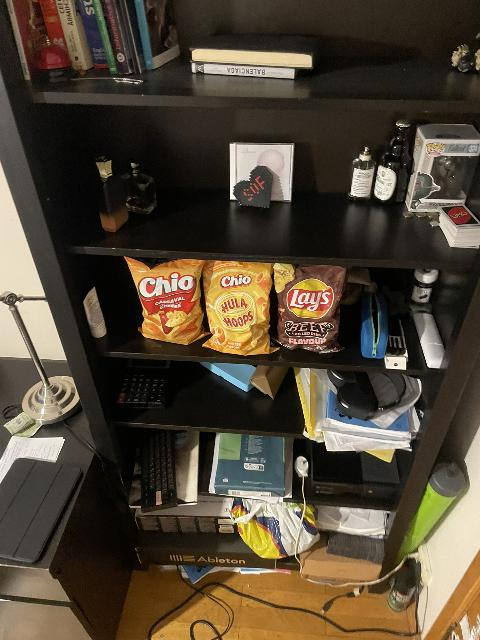Chio Cascaval 125g: (126, 257, 209, 347)
Chio Hula Hoops Cheese 70g: (199, 261, 276, 355)
Lays Beef Grilled Ribs 125g: (272, 263, 342, 351)
